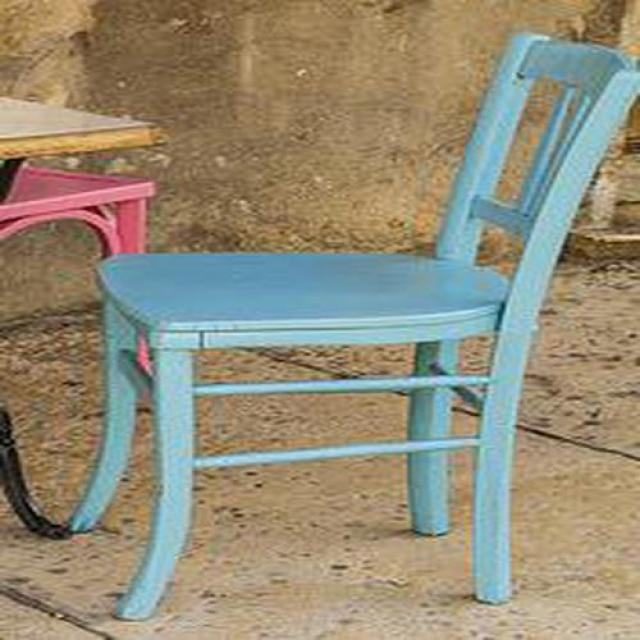chair: (69, 35, 640, 622)
